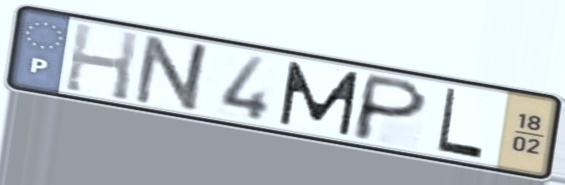4: (216, 51, 273, 123)
H: (60, 19, 143, 104)
L: (433, 85, 487, 162)
M: (276, 58, 363, 138)
N: (129, 32, 218, 116)
P: (346, 71, 433, 145)
